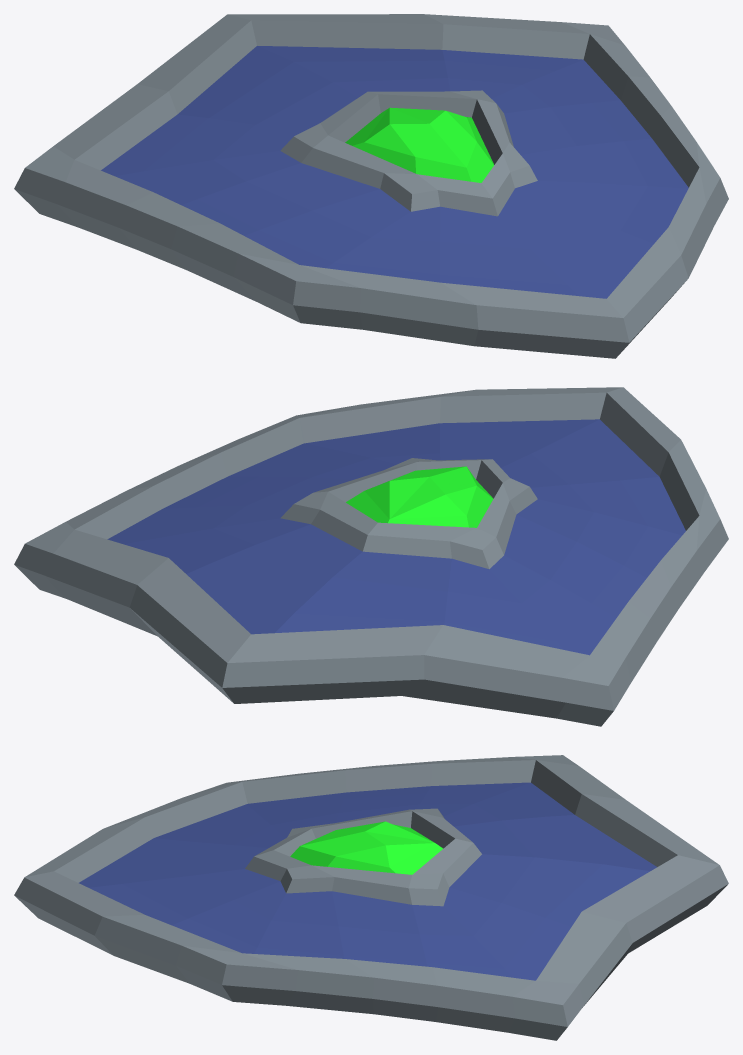
File: Shields.fbx
The picture shows the model from 3 angles, top to bottom: view 1: azimuth 30°, elevation 25°; view 2: azimuth 150°, elevation 25°; view 3: azimuth 270°, elevation 25°; orthographic projection. The views are drawn at different scales.
Parts seen in each view (by area): view 1: TopPoint; view 2: TopPoint; view 3: TopPoint.
Boxes of the visible parts, <box> form: TopPoint: <box>14,14,728,358</box>; TopPoint: <box>14,387,728,726</box>; TopPoint: <box>14,755,728,1040</box>.
Size of the model in its own units: 72.74 by 11.75 by 85.48.
